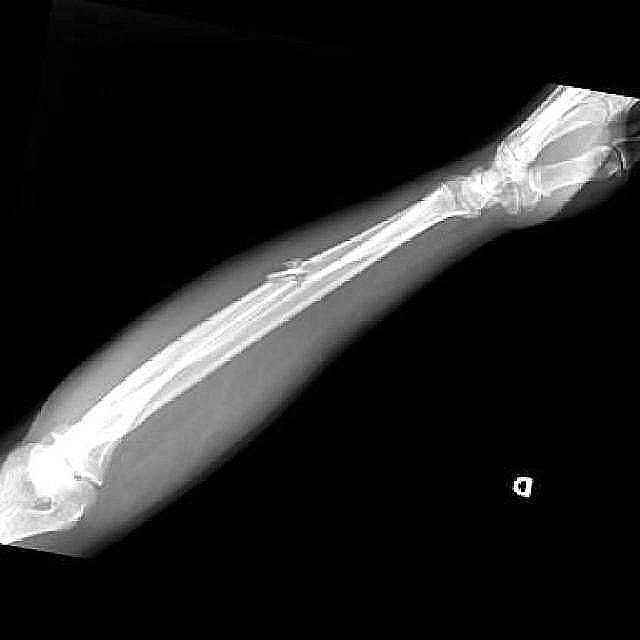bone: (263, 249, 309, 289)
